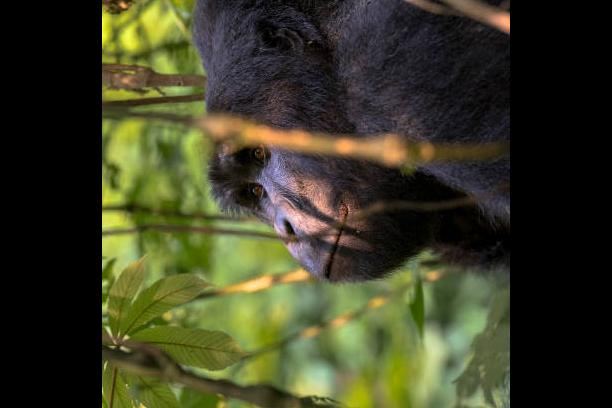goriile_montagne: (176, 0, 506, 284)
